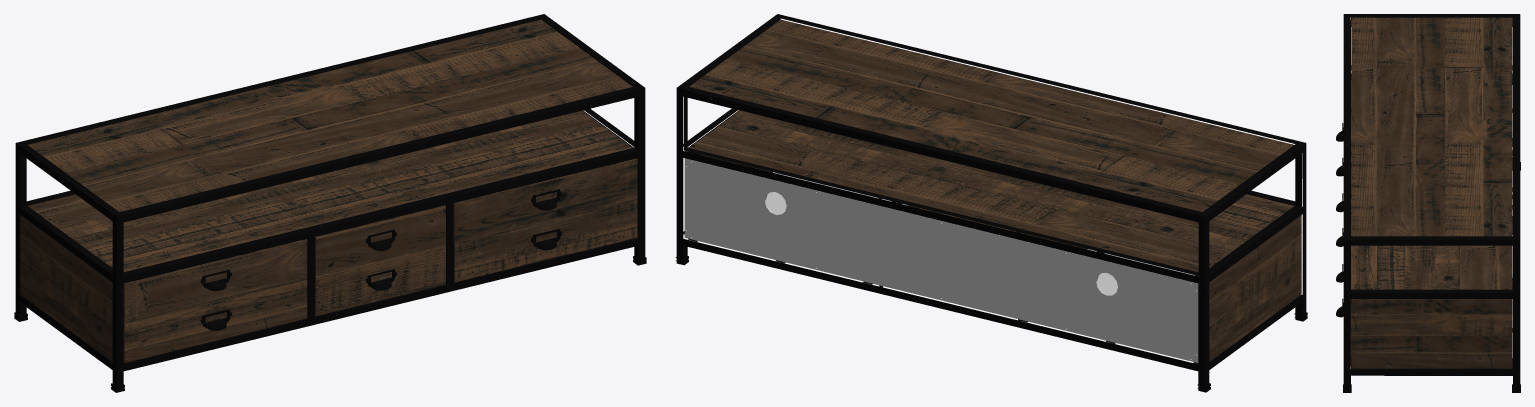
The picture shows the model from 3 angles, left to right: view 1: azimuth 30°, elevation 25°; view 2: azimuth 150°, elevation 25°; view 3: azimuth 270°, elevation 25°; orthographic projection. The views are drawn at different scales.
Parts seen in each view (by area): view 1: MANUF05.wood.Inner_MANUF05.003, MANUF05.metal_MANUF05.002; view 2: MANUF05.wood.Inner_MANUF05.003, MANUF05.wood.Inner.001_MANUF05.004, MANUF05.metal_MANUF05.002; view 3: MANUF05.wood.Inner_MANUF05.003, MANUF05.metal_MANUF05.002.
Boxes of the visible parts, bbox=[...] form: MANUF05.wood.Inner_MANUF05.003: bbox=[20, 19, 637, 362]; MANUF05.metal_MANUF05.002: bbox=[14, 14, 646, 392]; MANUF05.wood.Inner_MANUF05.003: bbox=[685, 19, 1301, 361]; MANUF05.wood.Inner.001_MANUF05.004: bbox=[684, 158, 1198, 362]; MANUF05.metal_MANUF05.002: bbox=[675, 14, 1307, 392]; MANUF05.wood.Inner_MANUF05.003: bbox=[1350, 17, 1512, 368]; MANUF05.metal_MANUF05.002: bbox=[1336, 14, 1520, 392].
Size of the model in its own units: 1.47 by 0.465 by 0.5082.
4 materials, 1 textured.
